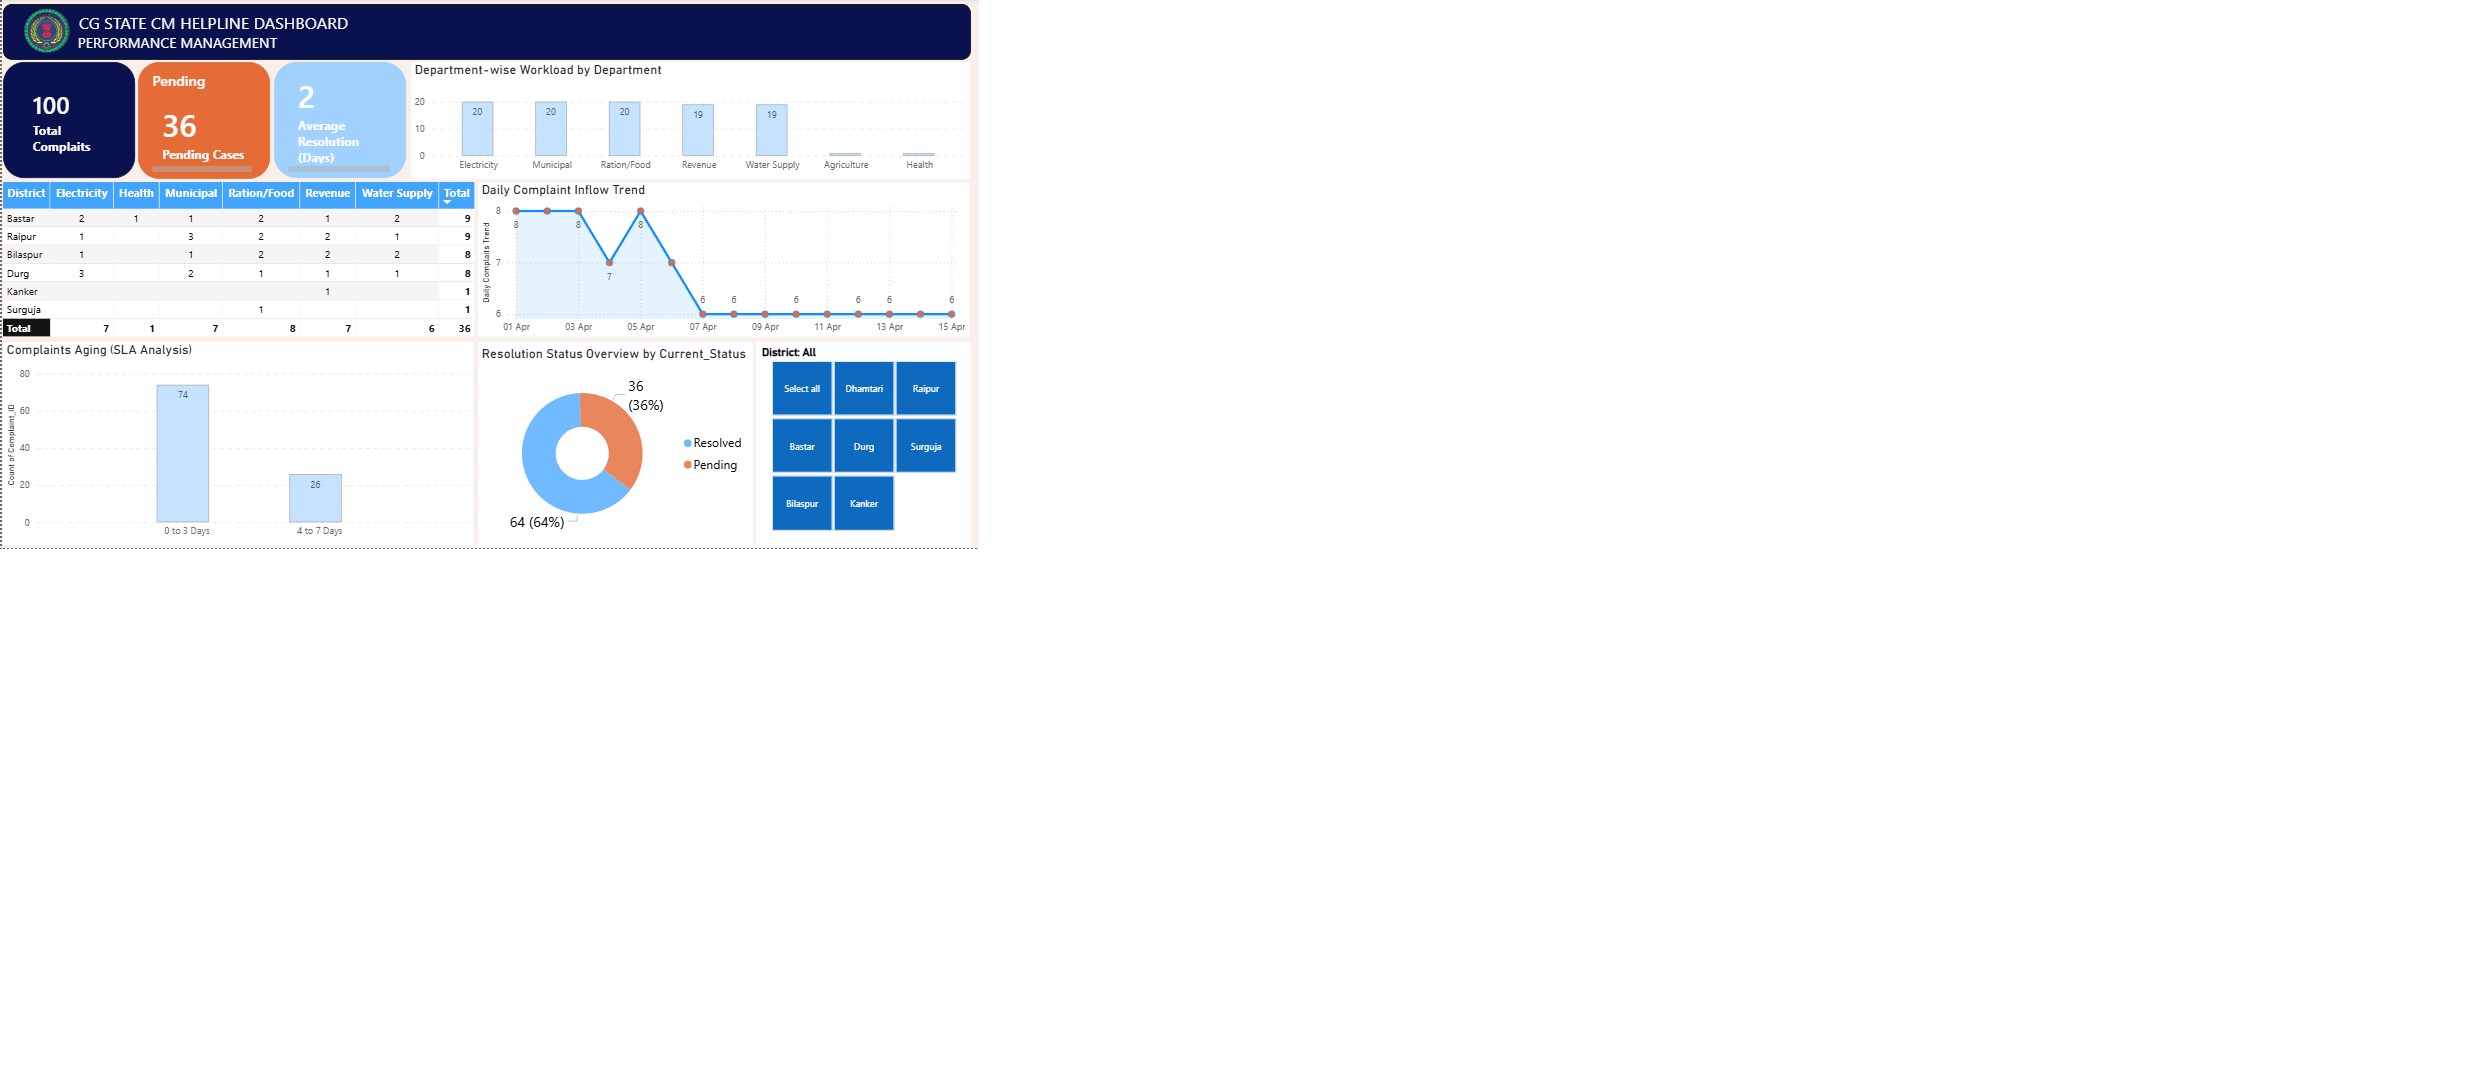

The page's visual inventory and layout, read from the dashboard file:
{"tool":"powerbi","page":{"name":"Page 1","canvas":[1280,720],"ordinal":0},"visuals":[{"type":"clusteredColumnChart","fields":{"Category":["CM_Helpline_Clean_Data.Department"],"Y":["CountNonNull(CM_Helpline_Clean_Data.Complaint_ID)"]},"box":[534.9,83.8,731.8,152.8],"z":0},{"type":"slicer","fields":{"Values":["CM_Helpline_Clean_Data.District"]},"box":[986.7,450.7,281.3,266.7],"z":1000},{"type":"donutChart","fields":{"Category":["CM_Helpline_Clean_Data.Current_Status"],"Y":["CountNonNull(CM_Helpline_Clean_Data.Complaint_ID)"]},"box":[623,450,360,267.6],"z":2000},{"type":"cardVisual","fields":{"Rows":["CM_Helpline_Clean_Data.Current_Status"],"Data":["CountNonNull(CM_Helpline_Clean_Data.Current_Status)"]},"box":[178,84,173,153],"z":3000},{"type":"lineChart","title":"Daily Complaint Inflow Trend","fields":{"Category":["CM_Helpline_Clean_Data.Registered_Date.Variation.Date Hierarchy.Year","CM_Helpline_Clean_Data.Registered_Date.Variation.Date Hierarchy.Quarter","CM_Helpline_Clean_Data.Registered_Date.Variation.Date Hierarchy.Month","CM_Helpline_Clean_Data.Registered_Date.Variation.Date Hierarchy.Day"],"Y":["CountNonNull(CM_Helpline_Clean_Data.Complaint_ID)"]},"box":[623.4,240.6,643,203],"z":4000},{"type":"pivotTable","fields":{"Rows":["CM_Helpline_Clean_Data.District"],"Columns":["CM_Helpline_Clean_Data.Department"],"Values":["CountNonNull(CM_Helpline_Clean_Data.Complaint_ID)"]},"box":[1.4,240.5,620.3,205.4],"z":5000},{"type":"cardVisual","fields":{"Data":["Avg(CM_Helpline_Clean_Data.Resolution_Days)"]},"box":[356,84,173,152],"z":6000},{"type":"clusteredColumnChart","title":"Complaints Aging (SLA Analysis)","fields":{"Category":["CM_Helpline_Clean_Data.Custom"],"Y":["CountNonNull(CM_Helpline_Clean_Data.Complaint_ID)"]},"box":[1,450,616,266],"z":7000},{"type":"textbox","box":[1.5,7.3,1266.6,73.5],"z":8000},{"type":"cardVisual","fields":{"Data":["CountNonNull(CM_Helpline_Clean_Data.Complaint_ID)"]},"box":[1,84,173,152],"z":9000},{"type":"image","box":[29.2,14.6,59.8,57.2],"z":10000}]}

Visuals, with their boxes on the page's 1280x720 design canvas (x1, y1, x2, y2). These are canvas units, not pixel positions in the 2492x1074 screenshot, which may show the page scaled, cropped or inside an application window:
clusteredColumnChart - CM_Helpline_Clean_Data.Department x CountNonNull(CM_Helpline_Clean_Data.Complaint_ID): box=[535, 84, 1267, 237]
slicer - CM_Helpline_Clean_Data.District: box=[987, 451, 1268, 717]
donutChart - CM_Helpline_Clean_Data.Current_Status x CountNonNull(CM_Helpline_Clean_Data.Complaint_ID): box=[623, 450, 983, 718]
cardVisual - CM_Helpline_Clean_Data.Current_Status x CountNonNull(CM_Helpline_Clean_Data.Current_Status): box=[178, 84, 351, 237]
"Daily Complaint Inflow Trend" lineChart: box=[623, 241, 1266, 444]
pivotTable - CM_Helpline_Clean_Data.District x CM_Helpline_Clean_Data.Department: box=[1, 240, 622, 446]
cardVisual - Avg(CM_Helpline_Clean_Data.Resolution_Days): box=[356, 84, 529, 236]
"Complaints Aging (SLA Analysis)" clusteredColumnChart: box=[1, 450, 617, 716]
textbox: box=[2, 7, 1268, 81]
cardVisual - CountNonNull(CM_Helpline_Clean_Data.Complaint_ID): box=[1, 84, 174, 236]
image: box=[29, 15, 89, 72]
